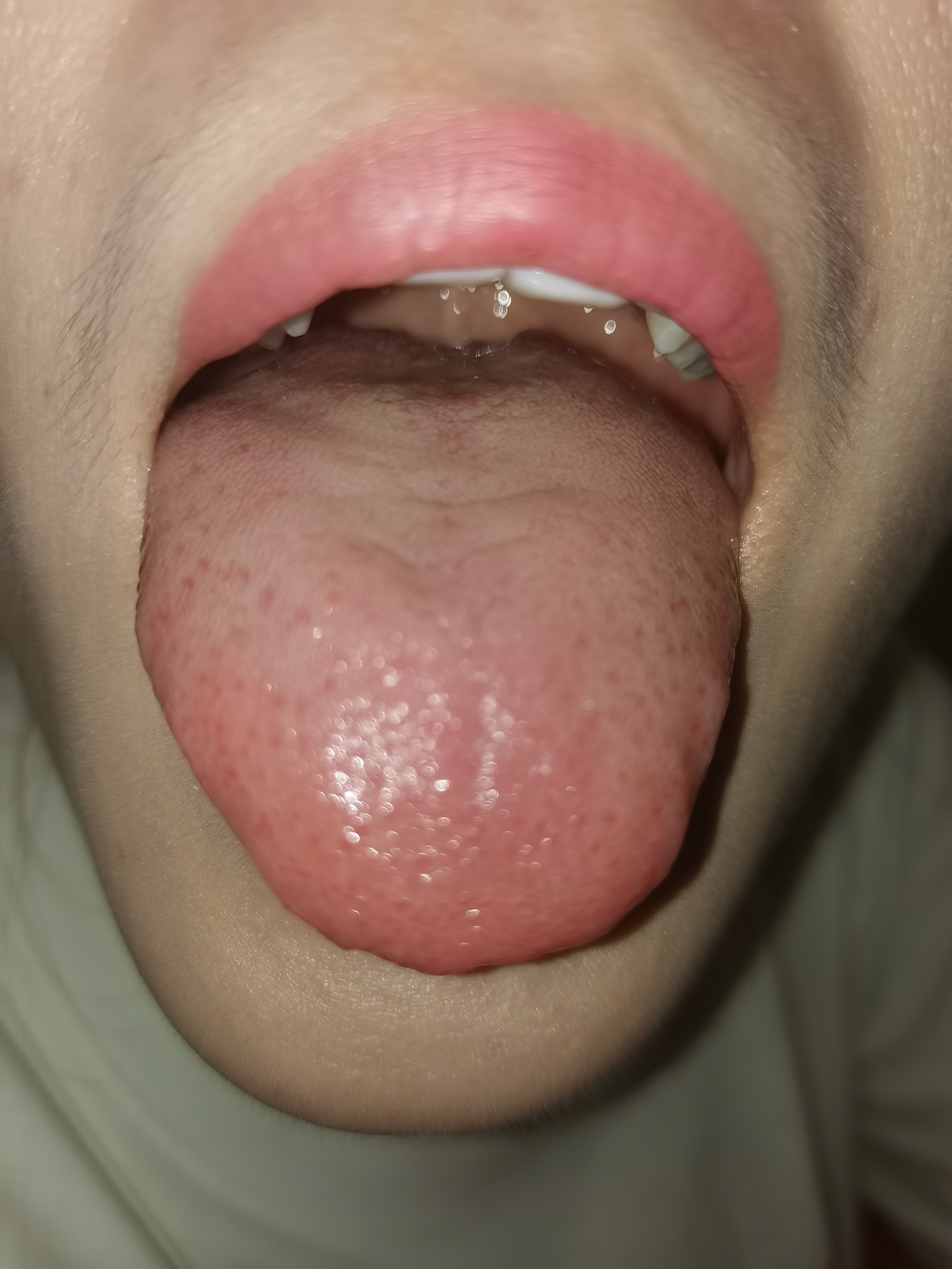baitaishe: (134, 326, 742, 976)
hongdianshe: (693, 678, 709, 702), (177, 571, 194, 593)
hongshe: (133, 325, 741, 975)
